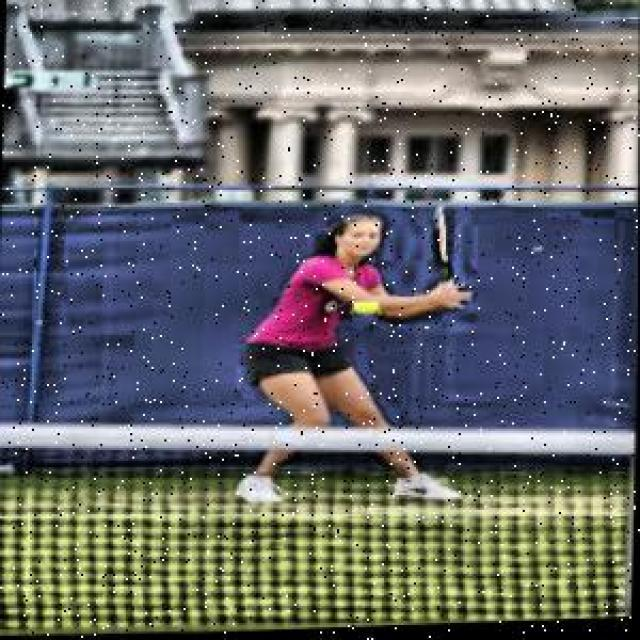tennis-ball: (352, 305, 380, 329)
